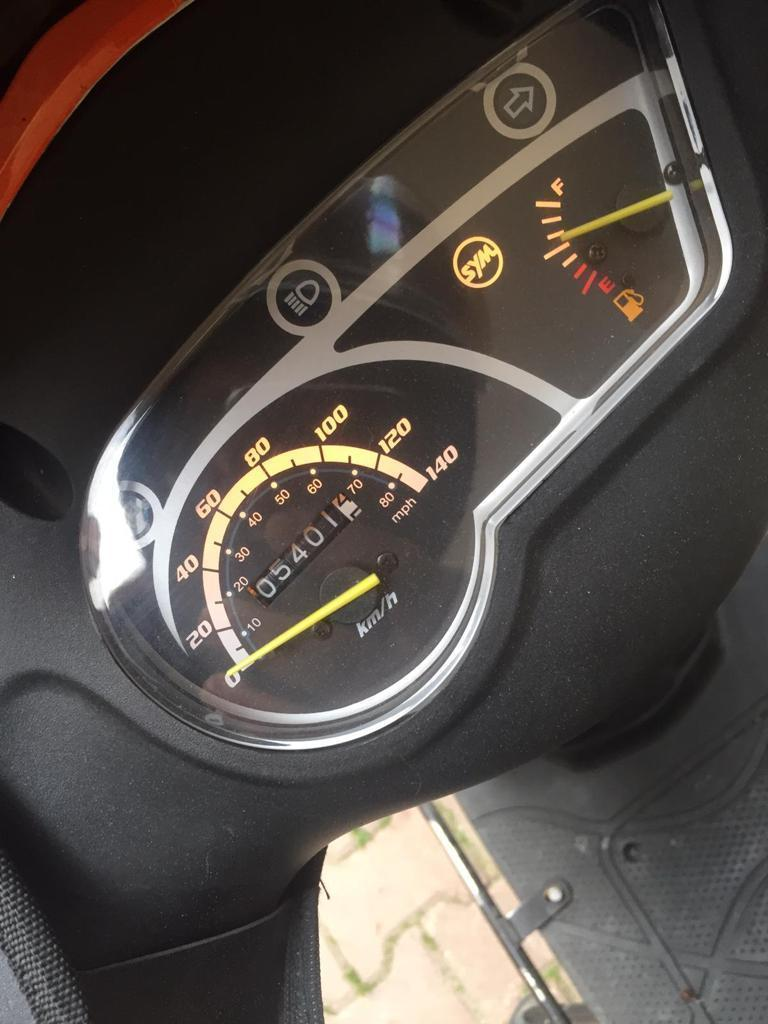0: (301, 525, 325, 546), (254, 577, 276, 598), (251, 511, 263, 522), (279, 490, 289, 499), (242, 545, 249, 556), (241, 576, 248, 585)
1: (319, 507, 339, 529)
4: (289, 542, 310, 564), (335, 491, 353, 508), (247, 516, 256, 527)
5: (267, 556, 291, 580), (274, 494, 284, 504)
odometer: (241, 489, 365, 612)
